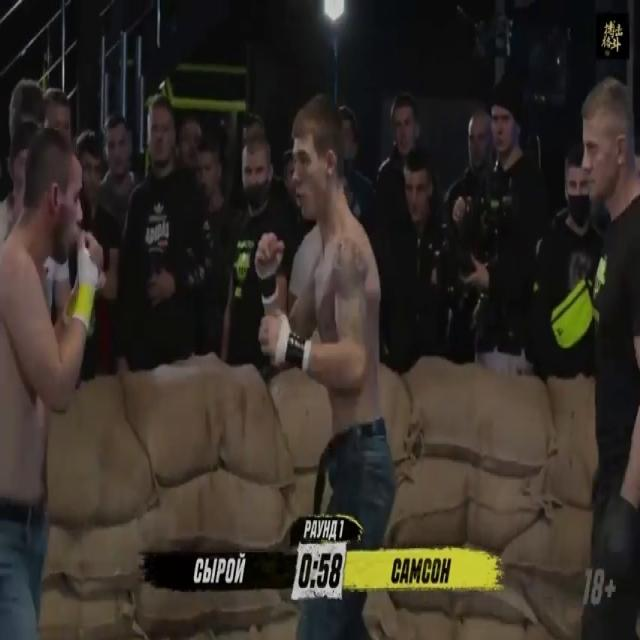non-fight: (254, 92, 396, 638), (0, 125, 107, 640), (578, 76, 640, 640)
